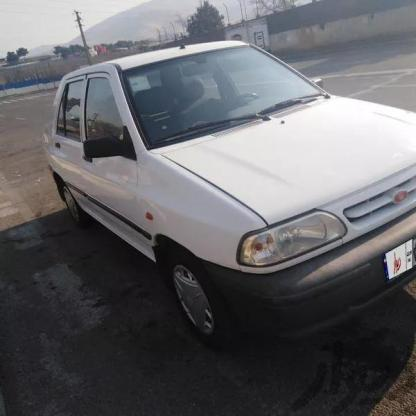Car: (4, 40, 416, 337)
